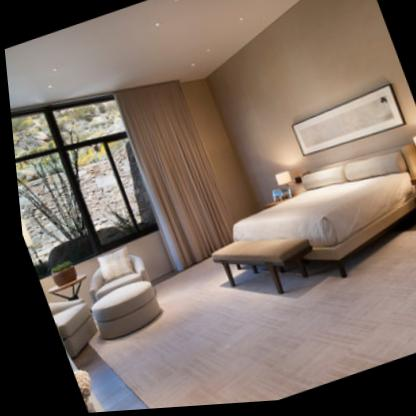Bed: (205, 155, 414, 296)
Carpet: (95, 229, 416, 410)
